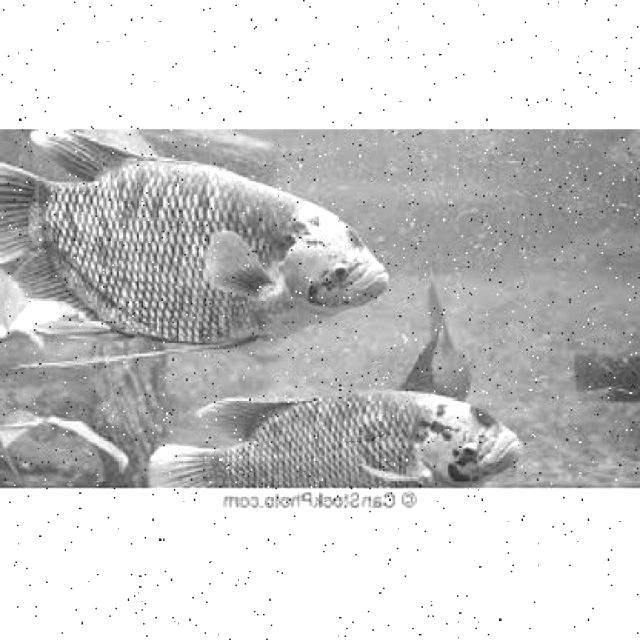gurame: (2, 134, 390, 352), (150, 390, 526, 487)
